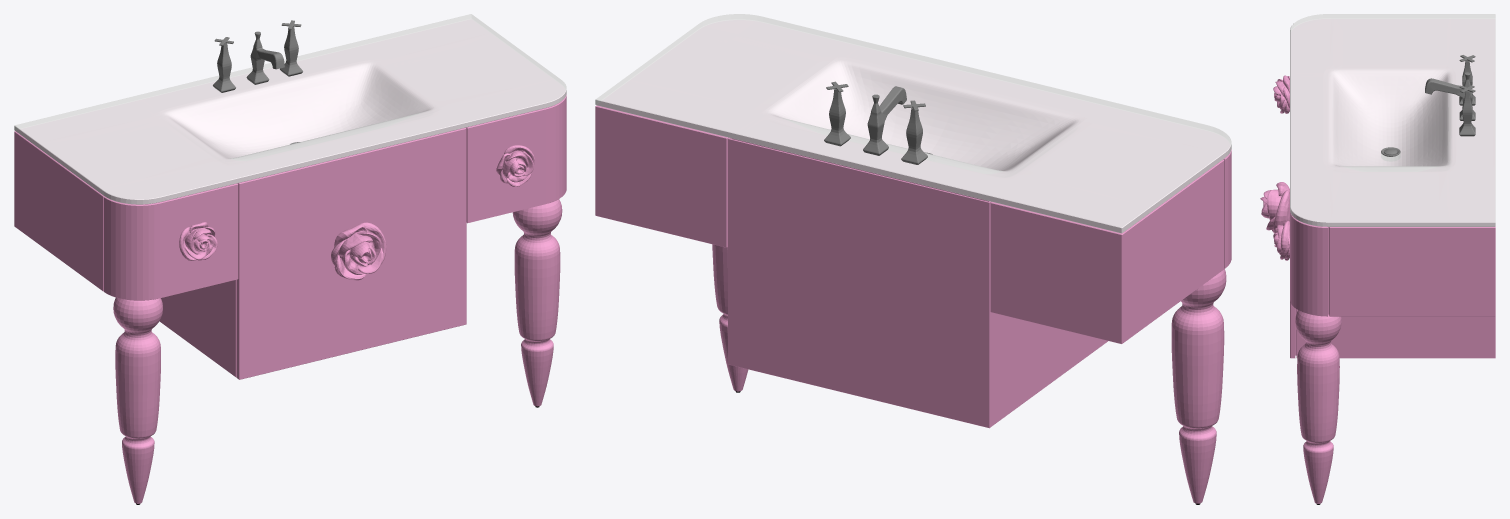
Rendered from eurolegno_amarcord_drawer_01_obj.obj.
3 views of the same model, side by side, from view 1: azimuth 30°, elevation 25°; view 2: azimuth 150°, elevation 25°; view 3: azimuth 270°, elevation 25° (orthographic). The views are drawn at different scales.
Visible parts, largest first — view 1: eurolegno_amarcord_drawer_01; view 2: eurolegno_amarcord_drawer_01; view 3: eurolegno_amarcord_drawer_01.
Boxes of the visible parts, box(x1,y1,x2,y2) form: eurolegno_amarcord_drawer_01: box(14, 14, 566, 504); eurolegno_amarcord_drawer_01: box(595, 14, 1231, 504); eurolegno_amarcord_drawer_01: box(1260, 14, 1495, 504).
Size of the model in its own units: 136 by 104 by 65.1.
